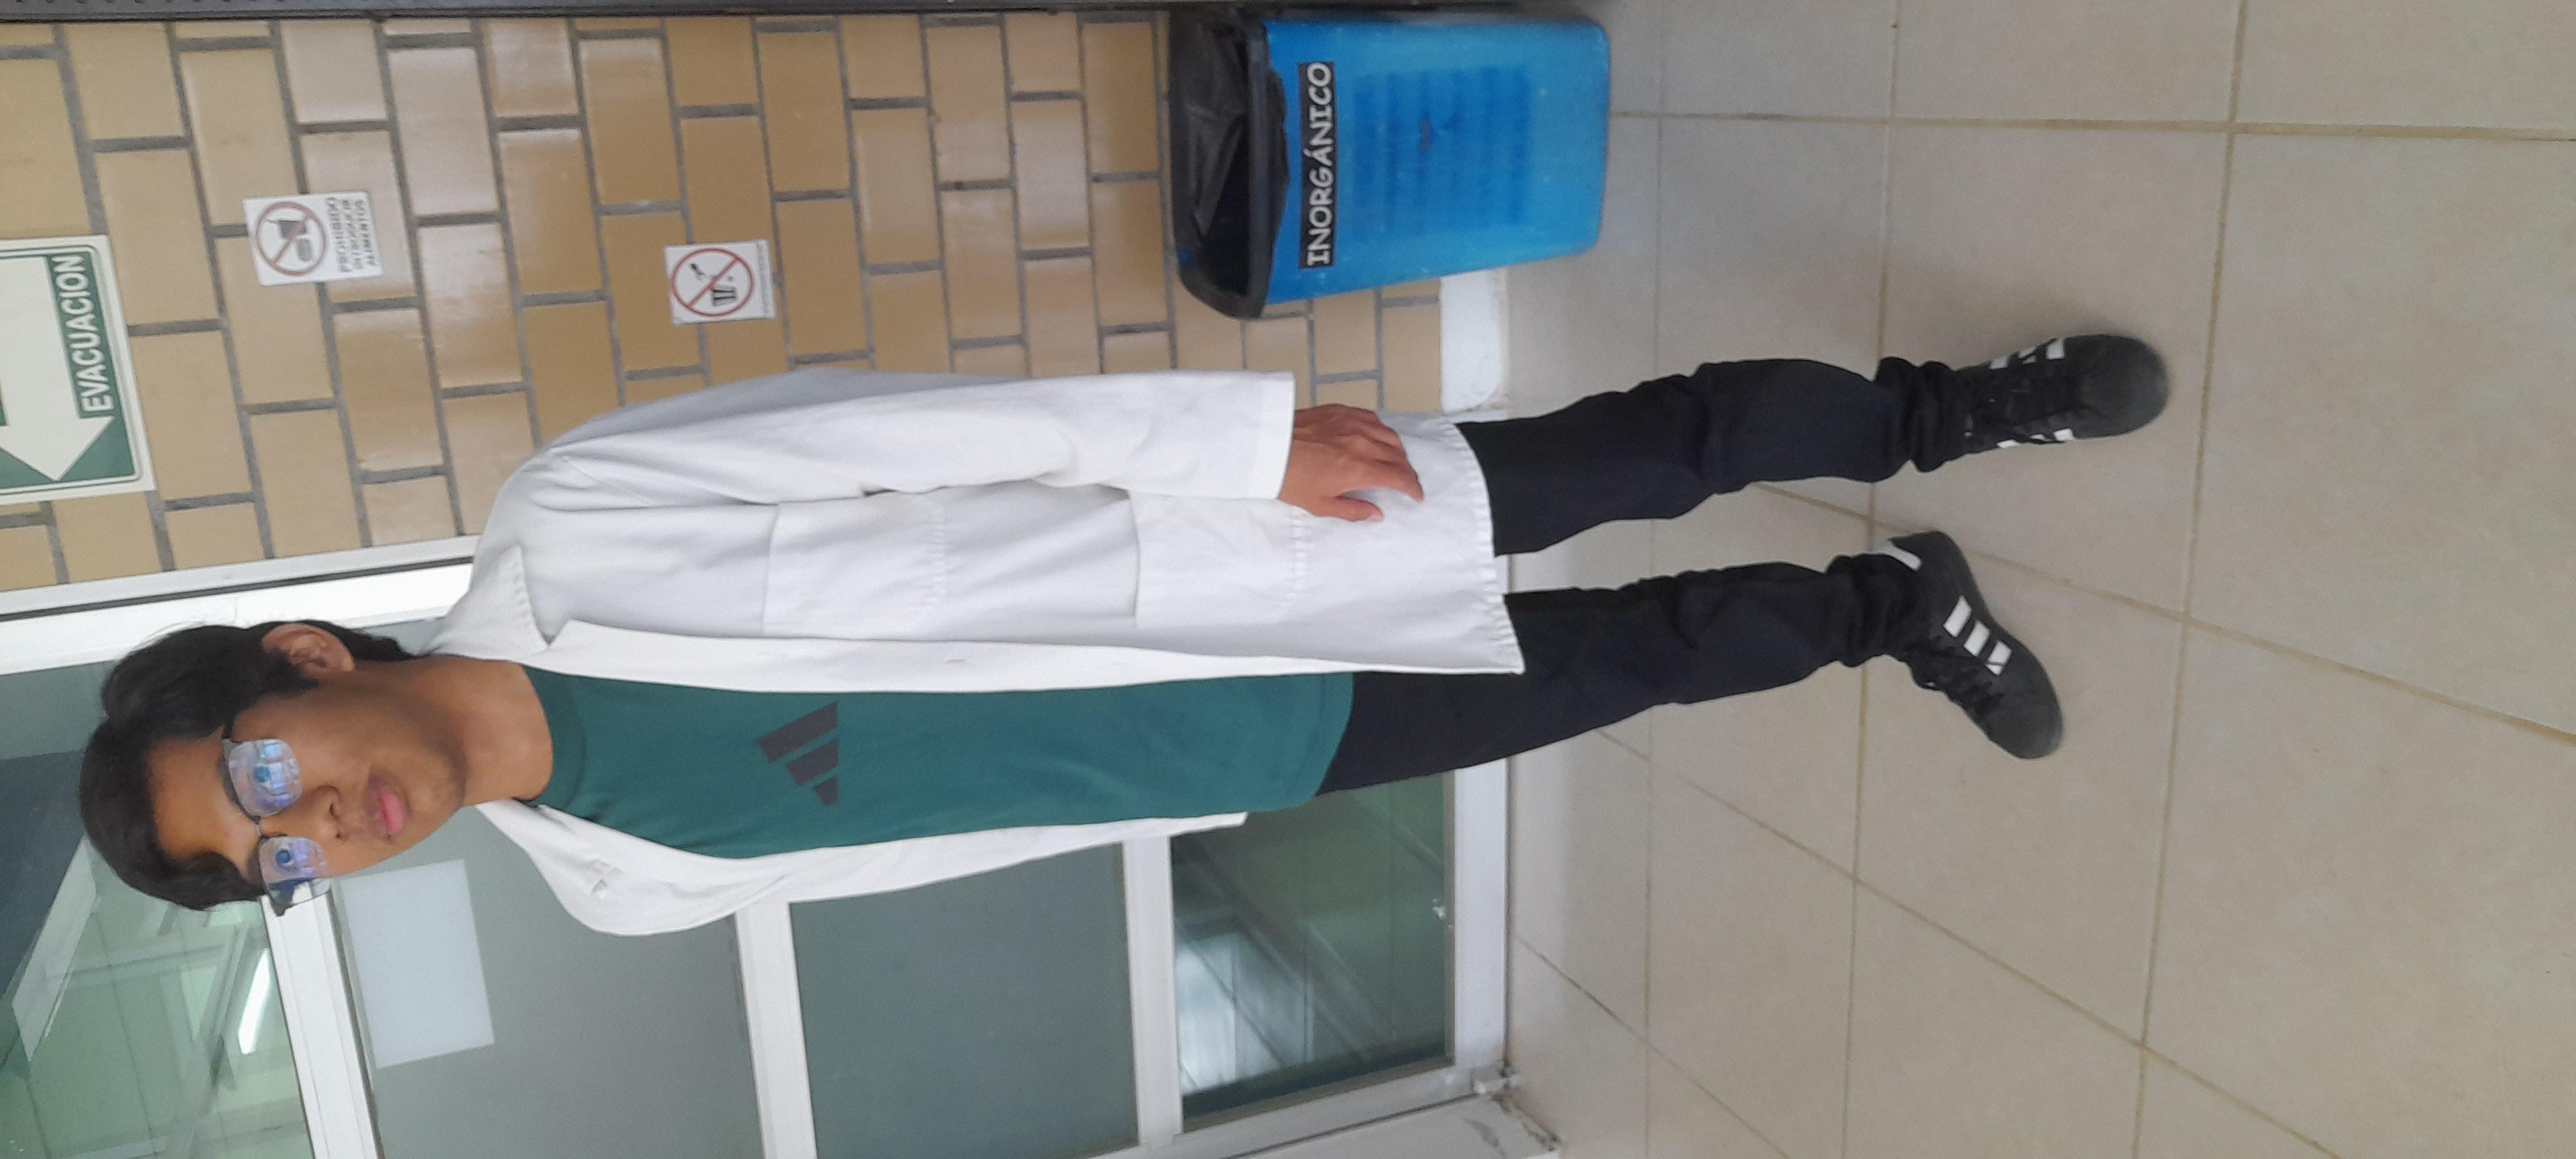Bata-Incorrecta: (386, 20, 2132, 996)
